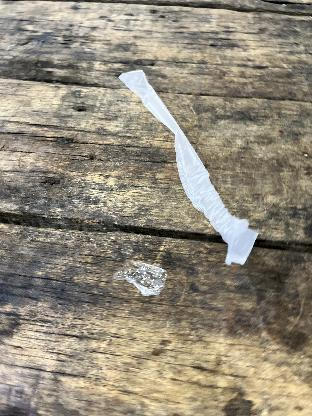Others: (117, 66, 262, 266), (115, 256, 177, 300)
